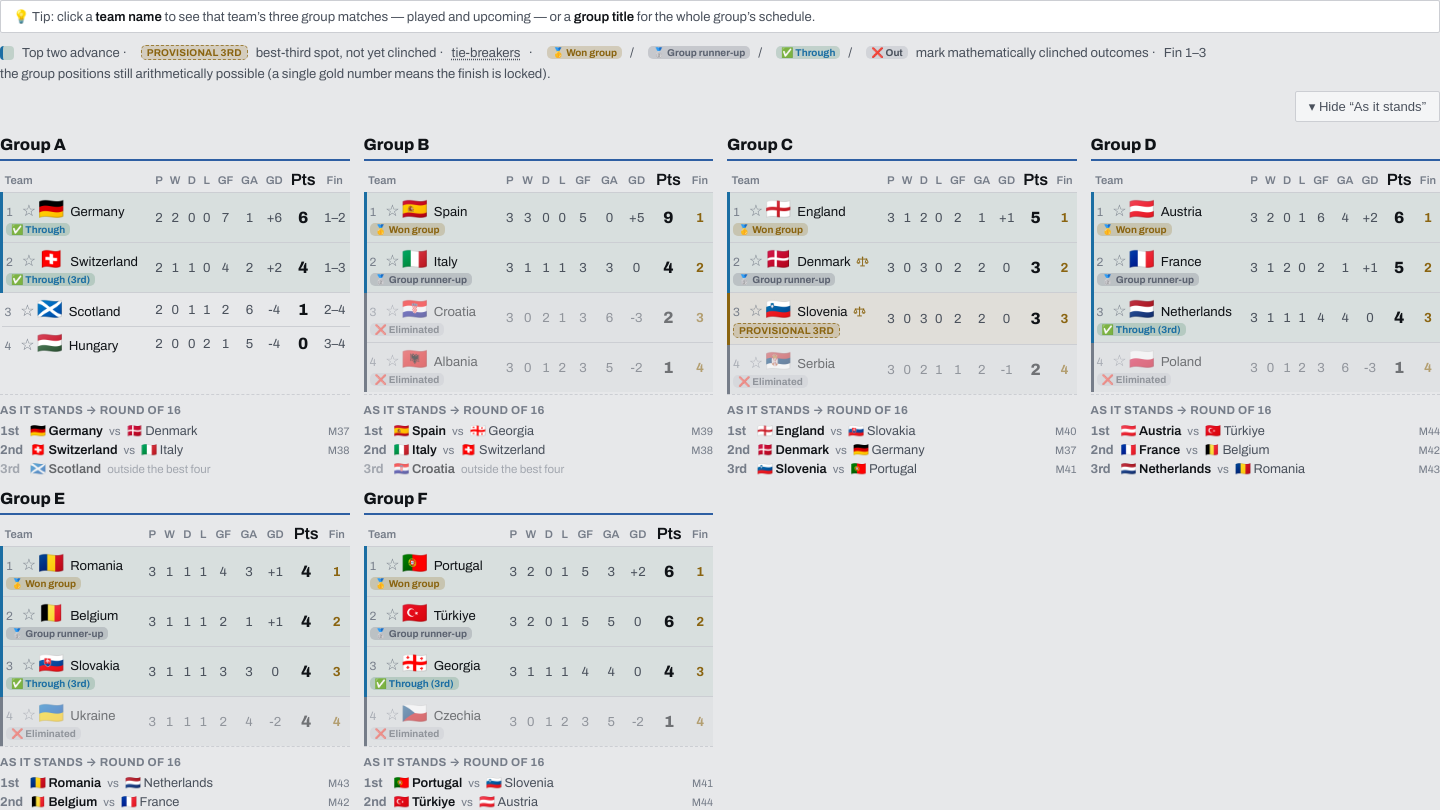
Scenario: Group games pop-up › shows a confirmed (non-provisional) matchup when the opponent is locked
Click the button "Austria": (1181, 212) [1161, 204, 1202, 220]
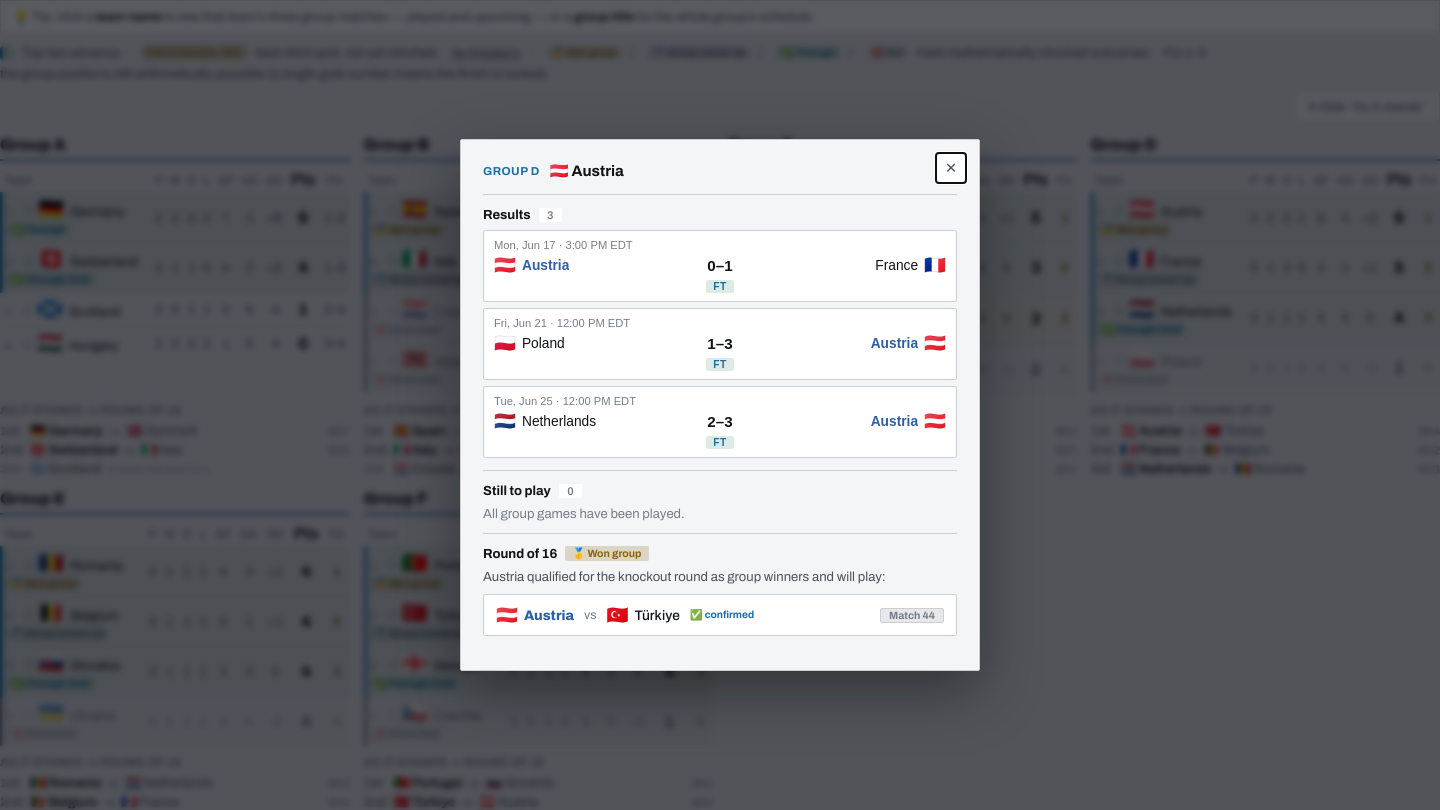
Result: the element with class "gg-knockout" is shown at [483, 533, 957, 636]
Result: the element with class "gg-ko-match" shows "Türkiye" at [634, 608, 680, 622]
Result: the text "✅ confirmed" is shown at [690, 609, 754, 621]
